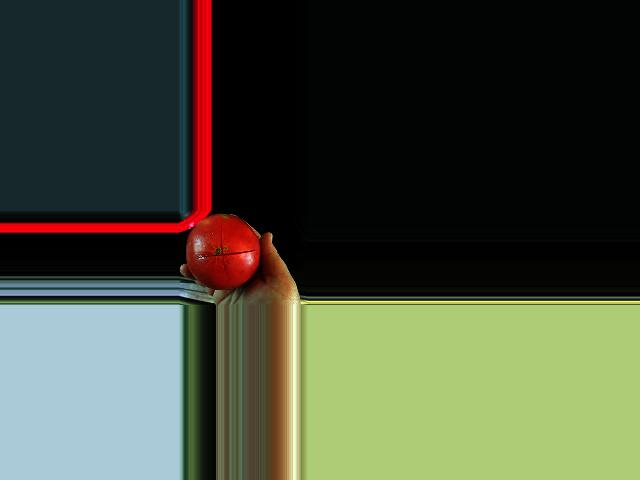tomato: (184, 214, 260, 290)
